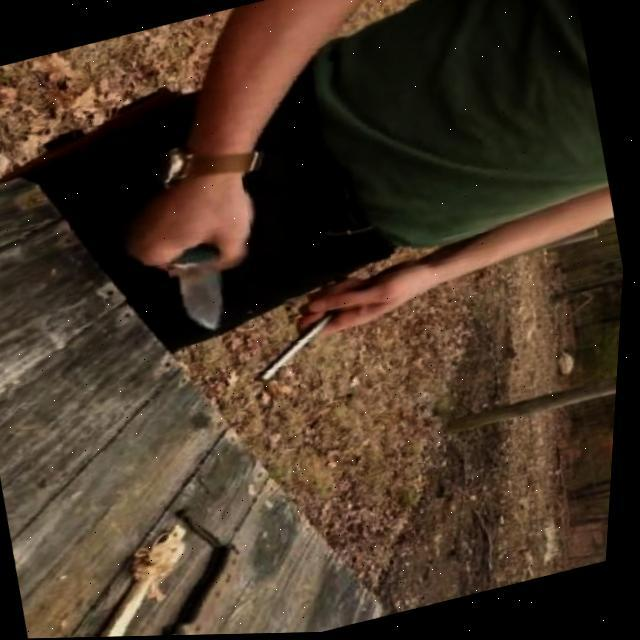knife: (164, 238, 240, 338)
